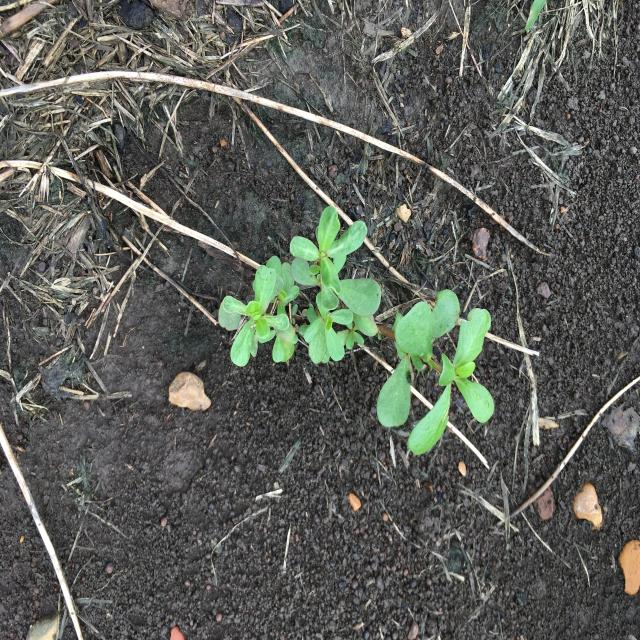Purslane: (218, 206, 495, 456)
